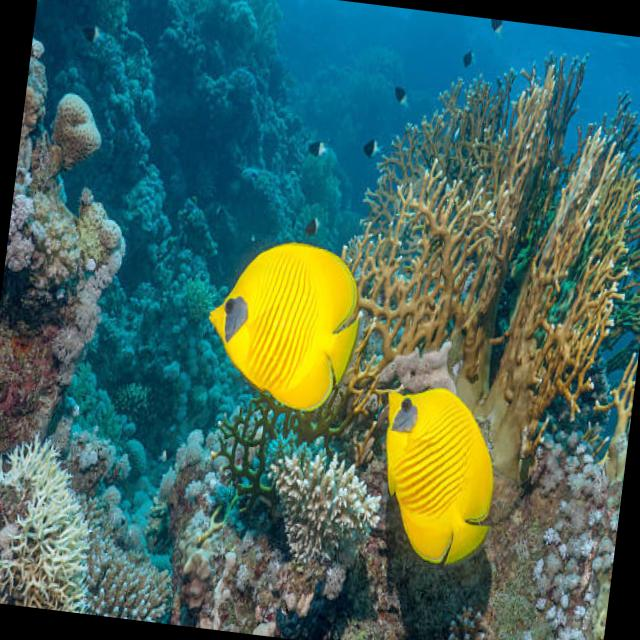ButterflyFish: (200, 232, 366, 418), (370, 383, 505, 571)
